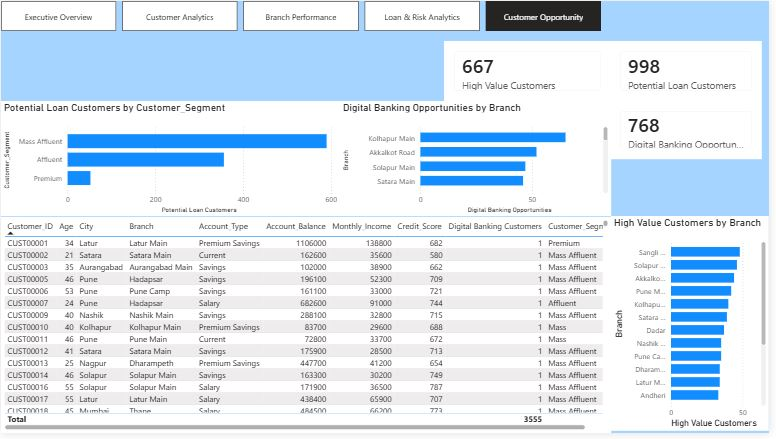

The page's visual inventory and layout, read from the dashboard file:
{"tool":"powerbi","page":{"name":"Customer Opportunity","canvas":[1280,720],"ordinal":4},"visuals":[{"type":"cardVisual","fields":{"Data":["Customers.High Value Customers"]},"box":[738.3,66.7,278.3,100],"z":0},{"type":"cardVisual","fields":{"Data":["Customers.Potential Loan Customers"]},"box":[1015,66.7,253.3,100],"z":1000},{"type":"cardVisual","fields":{"Data":["Customers.Digital Banking Opportunities"]},"box":[1015,166.7,253.3,96.7],"z":2000},{"type":"clusteredBarChart","fields":{"Category":["Customers.Customer_Segment"],"Y":["Customers.Potential Loan Customers"]},"box":[0,166.7,565,191.7],"z":3000},{"type":"clusteredBarChart","fields":{"Category":["Customers.Branch"],"Y":["Customers.High Value Customers"]},"box":[1016.7,358.3,263.3,358.3],"z":4000},{"type":"clusteredBarChart","fields":{"Category":["Customers.Branch"],"Y":["Customers.Digital Banking Opportunities"]},"box":[565,166.7,451.7,191.7],"z":5000},{"type":"tableEx","fields":{"Values":["Customers.Customer_ID","Customers.Age","Customers.City","Customers.Branch","Customers.Account_Type","Customers.Account_Balance","Customers.Monthly_Income","Customers.Credit_Score","Customers.Digital Banking Customers","Customers.Customer_Segment"]},"box":[0,360,1016.7,360],"z":6000},{"type":"pageNavigator","box":[0,0,1000,50],"z":6001}]}

Visuals, with their boxes in screenshot pixels (x1, y1, x2, y2), scaled from the page's 1280x720 canvas onto the 776x439 screenshot:
cardVisual - Customers.High Value Customers: (left=448, top=41, right=616, bottom=102)
cardVisual - Customers.Potential Loan Customers: (left=615, top=41, right=769, bottom=102)
cardVisual - Customers.Digital Banking Opportunities: (left=615, top=102, right=769, bottom=161)
clusteredBarChart - Customers.Customer_Segment x Customers.Potential Loan Customers: (left=0, top=102, right=343, bottom=219)
clusteredBarChart - Customers.Branch x Customers.High Value Customers: (left=616, top=218, right=775, bottom=437)
clusteredBarChart - Customers.Branch x Customers.Digital Banking Opportunities: (left=343, top=102, right=616, bottom=219)
tableEx - Customers.Customer_ID x Customers.Age: (left=0, top=220, right=616, bottom=438)
pageNavigator: (left=0, top=0, right=606, bottom=30)
